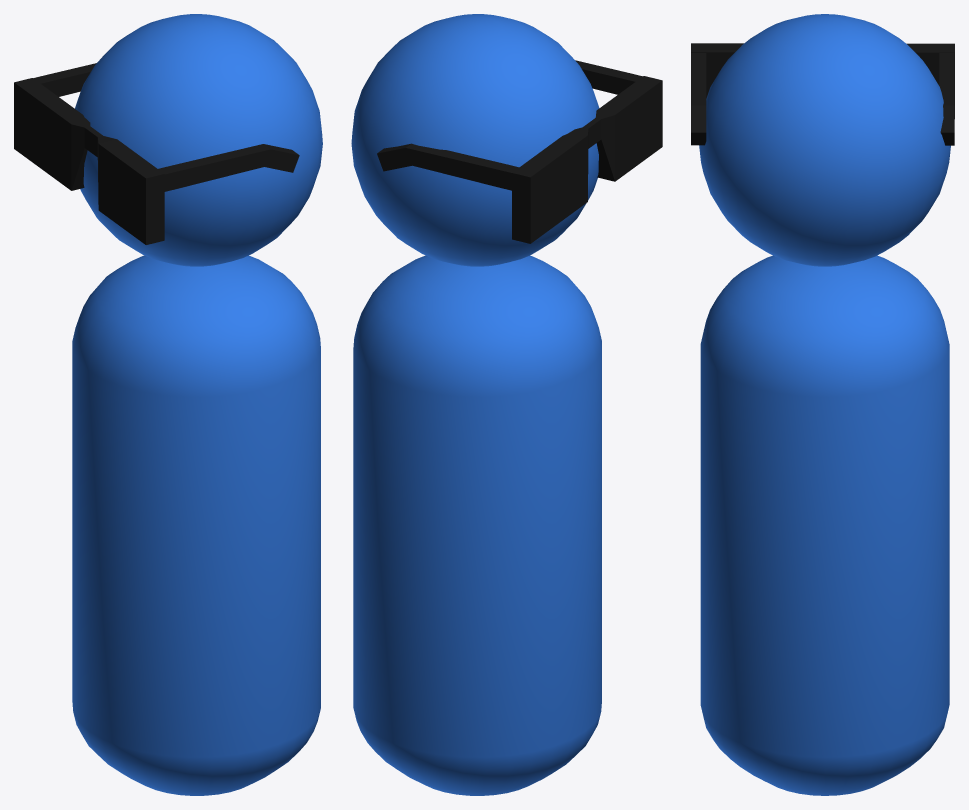
Rendered from Person Sunglasses.fbx.
3 renders of one model, left to right at view 1: azimuth 30°, elevation 25°; view 2: azimuth 150°, elevation 25°; view 3: azimuth 270°, elevation 25°, orthographic.
Parts seen in each view (by area): view 1: Cylinder, Sphere, Cube; view 2: Cylinder, Sphere, Cube; view 3: Cylinder, Sphere, Cube.
Boxes of the visible parts, left/top/right/bottom form: Cylinder: left=72, top=255, right=320, bottom=795; Sphere: left=75, top=14, right=322, bottom=266; Cube: left=14, top=63, right=299, bottom=244; Cylinder: left=353, top=255, right=601, bottom=795; Sphere: left=351, top=14, right=599, bottom=266; Cube: left=377, top=60, right=662, bottom=243; Cylinder: left=700, top=255, right=949, bottom=795; Sphere: left=699, top=14, right=950, bottom=266; Cube: left=691, top=43, right=954, bottom=145.
Bounding box in the file's own units: 168 × 533 × 169.
